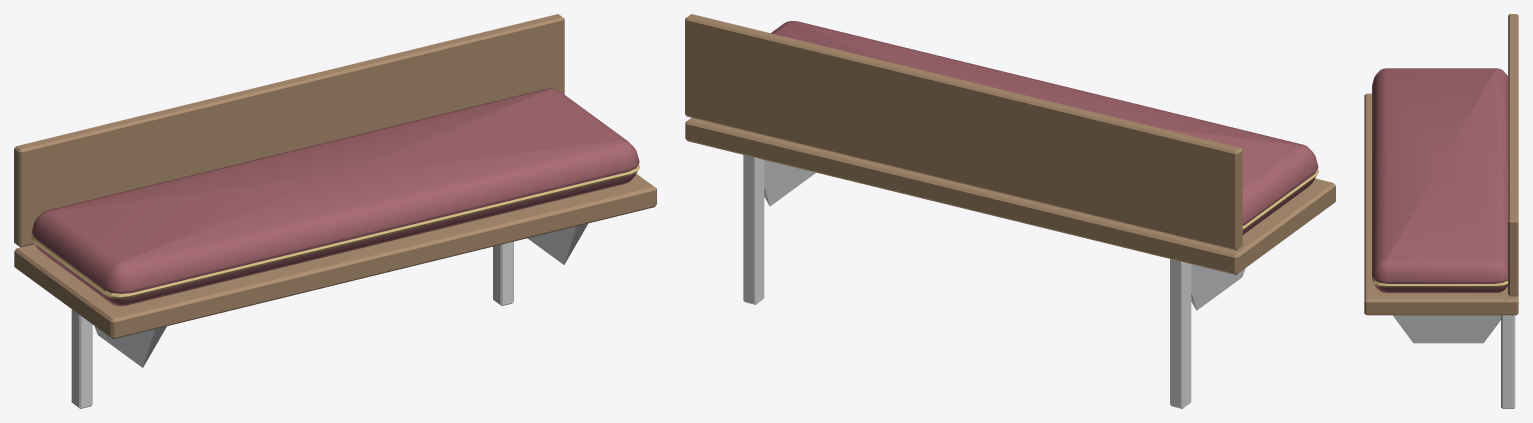
The model's file is bar-pub-and-brewery-taproom-wall-bench-cushion-176ed10d__18379.glb.
3 views of the same model, side by side, from view 1: azimuth 30°, elevation 25°; view 2: azimuth 150°, elevation 25°; view 3: azimuth 270°, elevation 25° (orthographic). The views are drawn at different scales.
Visible parts, largest first — view 1: wall-bench-cushion; view 2: wall-bench-cushion; view 3: wall-bench-cushion.
Boxes of the visible parts, x1,y1,x2,y2 form: wall-bench-cushion: (14,14,656,408); wall-bench-cushion: (685,14,1335,408); wall-bench-cushion: (1364,14,1518,408).
Size of the model in its own units: 1.4 by 0.66 by 0.4399.
